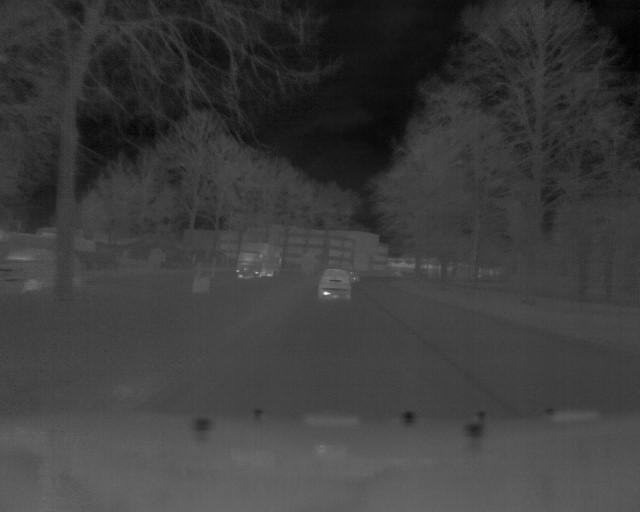car: (3, 250, 88, 297), (237, 240, 281, 281), (316, 265, 351, 302)
